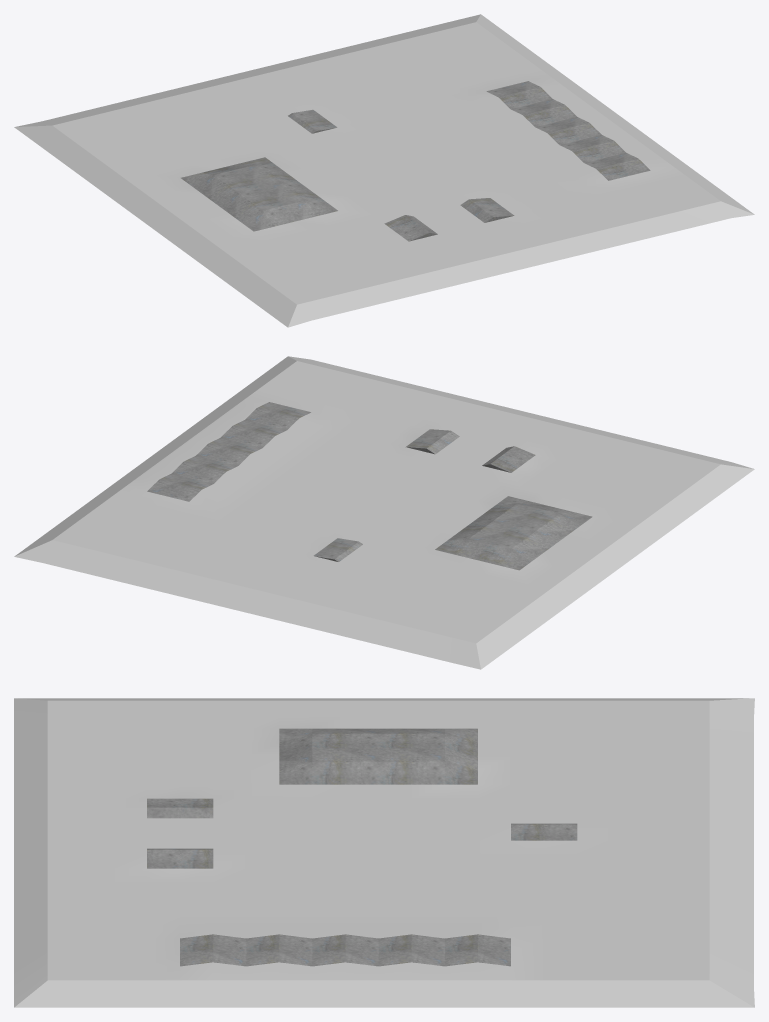
Rendered from gROUND (1).fbx.
3 renders of one model, top to bottom at view 1: azimuth 30°, elevation 25°; view 2: azimuth 150°, elevation 25°; view 3: azimuth 270°, elevation 25°, orthographic. The views are drawn at different scales.
Visible parts, largest first — view 1: Test_trackGround; view 2: Test_trackGround; view 3: Test_trackGround.
Part boxes in pixels (x1,y1,x2,y2): Test_trackGround: [14, 14, 754, 327]; Test_trackGround: [14, 356, 754, 669]; Test_trackGround: [14, 698, 754, 1007].
Size of the model in its own units: 19100 by 640 by 19406.
